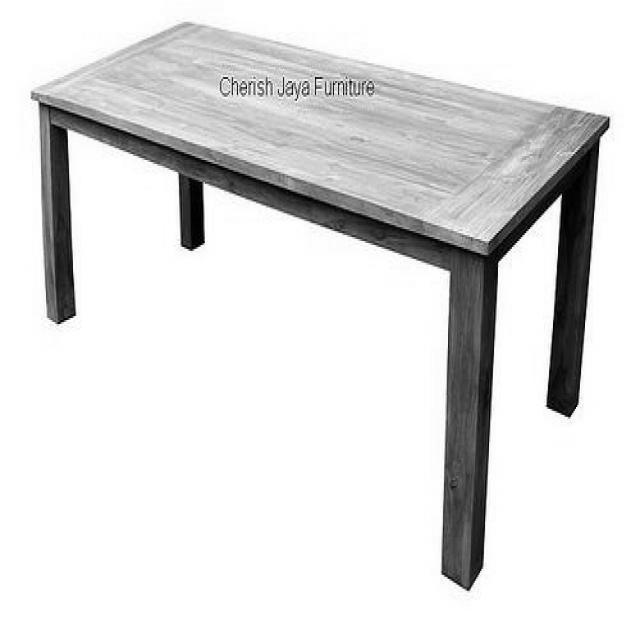table: (25, 19, 610, 595)
